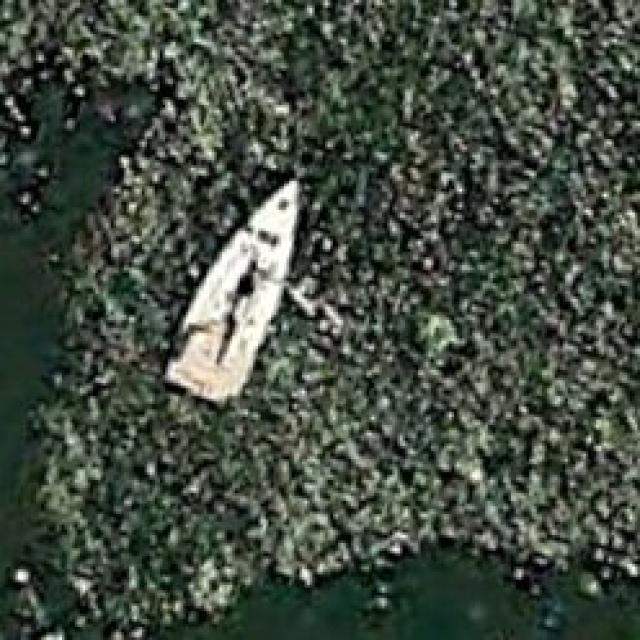ship: (155, 173, 302, 407)
